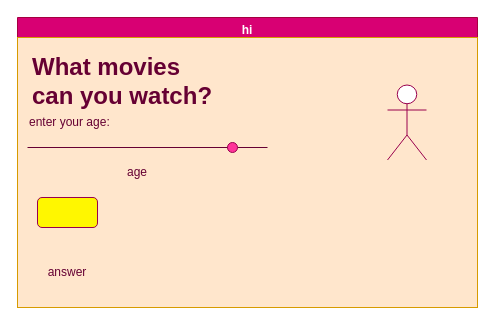
Image size: 495x325. Some labels were removed from this diagram. The centre of each missing label's shape, as x and y in pixels:
"Actor" goes at point (406, 122).
"button" goes at point (67, 212).
